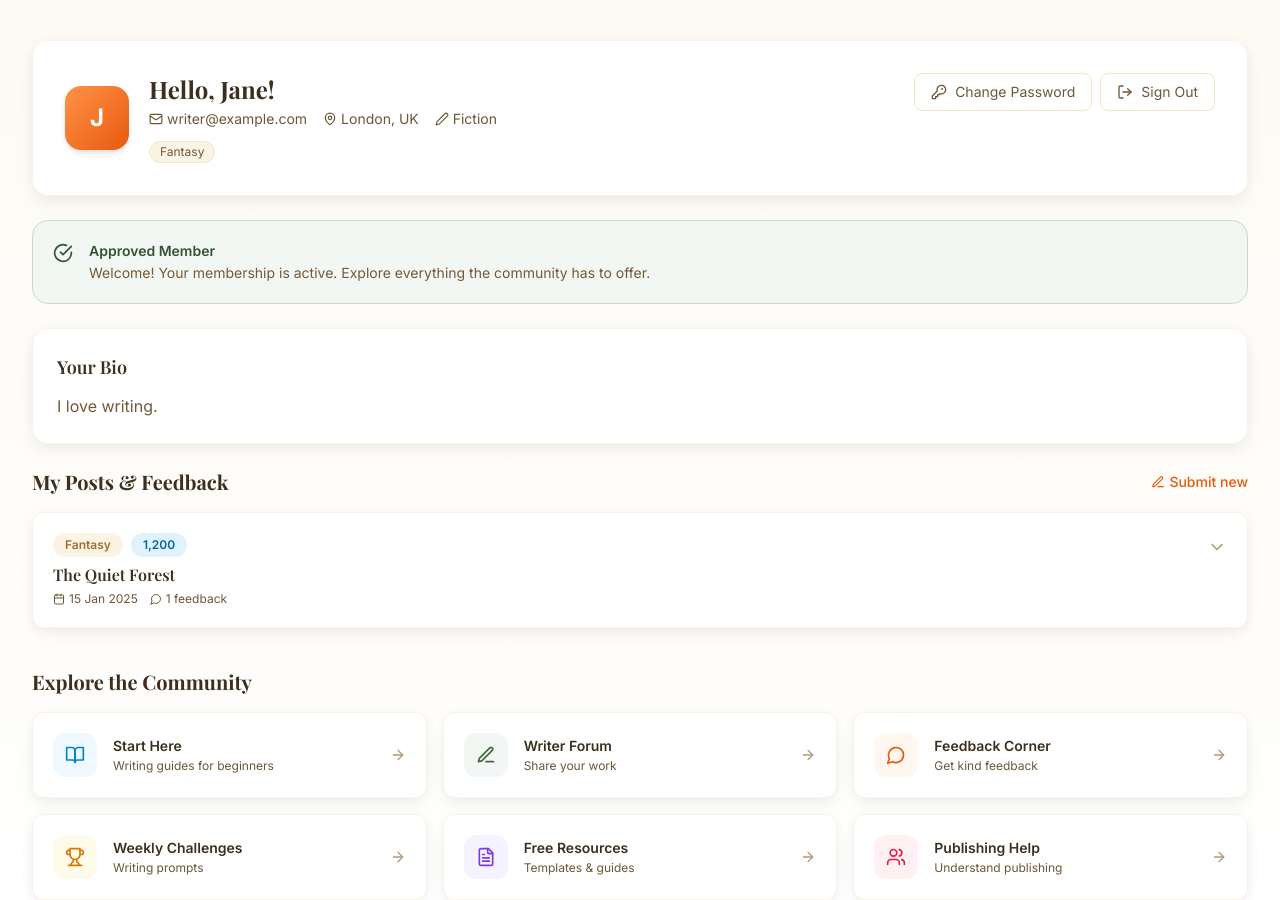
MemberArea — My Posts & Feedback › expands a post to show the excerpt and feedback received
Expected: the text "The trees whispered in the dark." is not shown
Expected: the text "Feedback Received" is not shown
Step 1. Click the heading "The Quiet Forest" → point(114, 574), box x1=53 y1=564 x2=175 y2=585
(page scrolled)
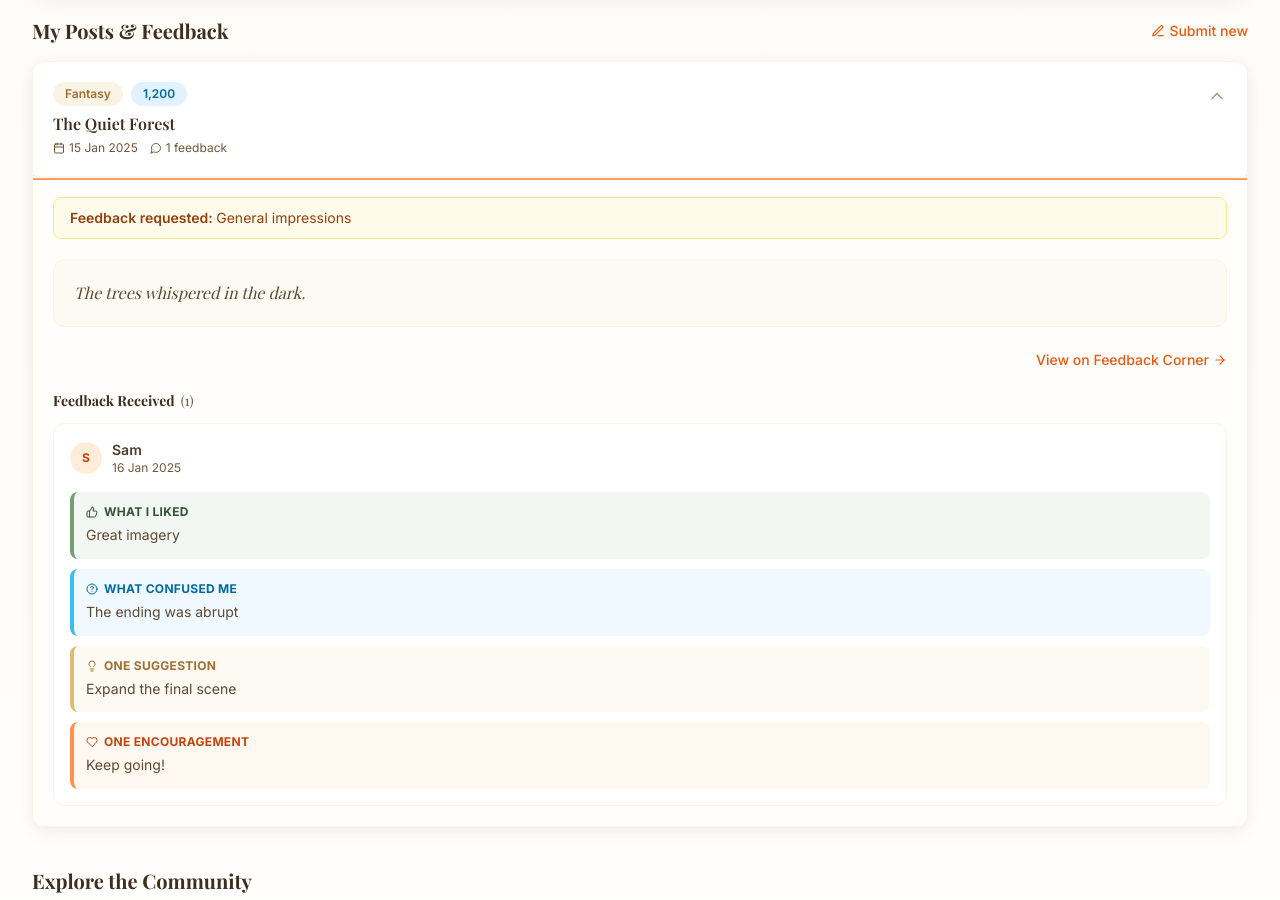
Result: the text "The trees whispered in the dark." is shown at x1=74 y1=282 x2=305 y2=303
Result: the text "Feedback requested: General impressions" is shown at x1=53 y1=197 x2=1227 y2=239
Result: the heading "Feedback Received(1)" is shown at x1=53 y1=391 x2=194 y2=410
